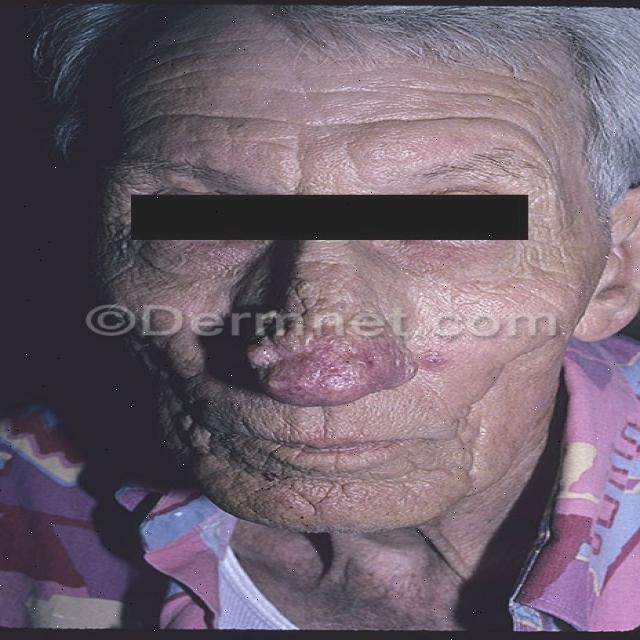images: (0, 1, 639, 633)
